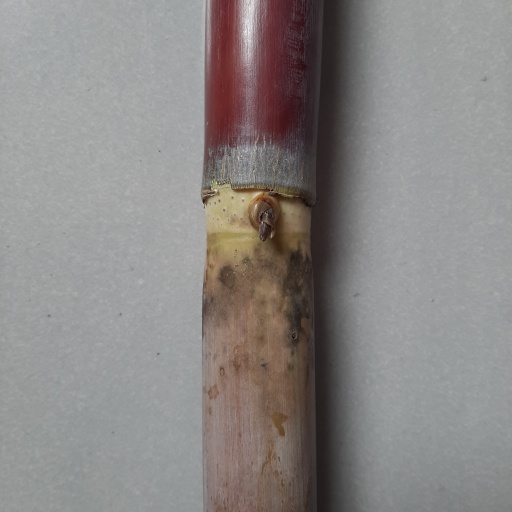Sprouted_Bud: (248, 193, 282, 242)
